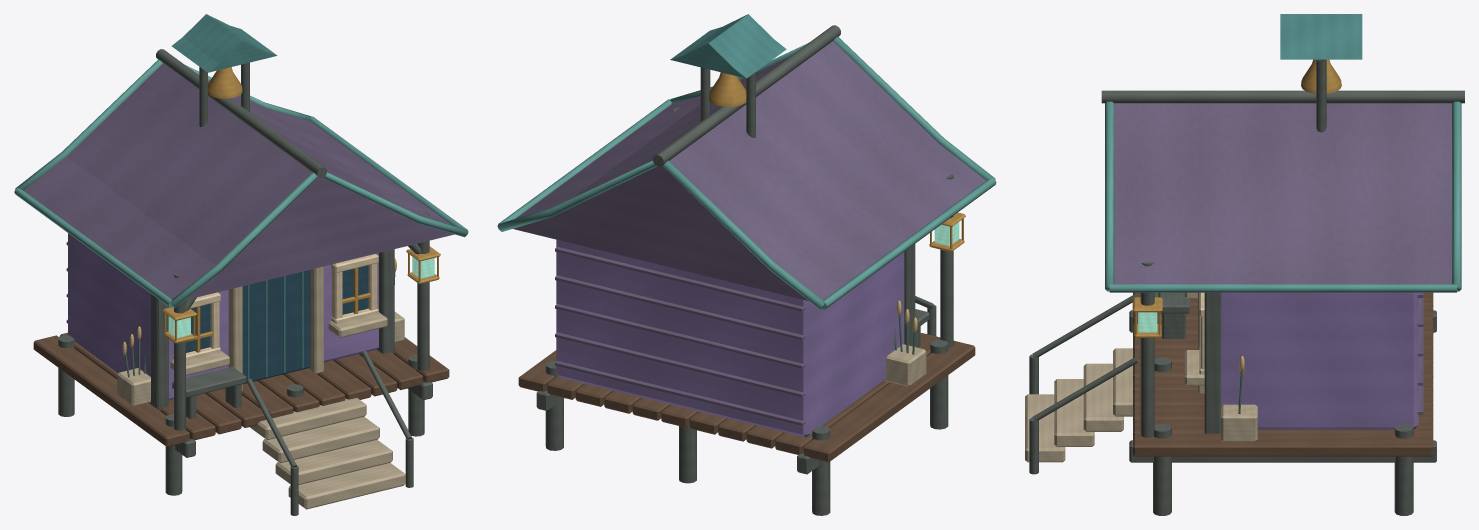
File: hollowmere-arrival-outpost.glb
3 renders of one model, left to right at view 1: azimuth 30°, elevation 25°; view 2: azimuth 150°, elevation 25°; view 3: azimuth 270°, elevation 25°, orthographic. The views are drawn at different scales.
Parts seen in each view (by area): view 1: Fen folded roof, Reed shelter, Arrival door, Dock board, Bell canopy, Roof rolled hem, Landing step.003, Landing step.001, Landing step.002, Roof spine, Landing step, Shelter corner post (+31 smaller); view 2: Fen folded roof, Reed shelter, Dock board, Bell canopy, Roof rolled hem.001, Roof spine, Roof rolled hem, Eave edge, Reed wall batten.004, Reed wall batten.002, Reed wall batten.003, Reed wall batten (+21 smaller); view 3: Fen folded roof, Reed shelter, Dock board.010, Roof spine, Bell canopy, Eave edge.001, Shelter corner post.001, Dock bearer.001, Landing step.001, Landing step.002, Roof rolled hem.001, Roof rolled hem (+21 smaller).
Boxes of the visible parts, bbox=[...] form: Fen folded roof: bbox=[23, 63, 454, 300]; Reed shelter: bbox=[68, 233, 378, 400]; Arrival door: bbox=[242, 269, 310, 383]; Dock board: bbox=[33, 335, 189, 446]; Bell canopy: bbox=[171, 14, 277, 72]; Roof rolled hem: bbox=[170, 172, 467, 307]; Landing step.003: bbox=[288, 463, 405, 509]; Landing step.001: bbox=[262, 416, 379, 463]; Landing step.002: bbox=[275, 440, 392, 484]; Roof spine: bbox=[156, 49, 326, 177]; Landing step: bbox=[250, 398, 366, 439]; Shelter corner post: bbox=[151, 294, 168, 411]; Fen folded roof: bbox=[513, 41, 986, 300]; Reed shelter: bbox=[556, 239, 904, 437]; Dock board: bbox=[803, 340, 975, 462]; Bell canopy: bbox=[670, 14, 786, 78]; Roof rolled hem.001: bbox=[498, 160, 824, 309]; Roof spine: bbox=[653, 25, 840, 166]; Roof rolled hem: bbox=[670, 36, 995, 180]; Eave edge: bbox=[822, 177, 996, 309]; Reed wall batten.004: bbox=[555, 246, 805, 311]; Reed wall batten.002: bbox=[555, 304, 805, 368]; Reed wall batten.003: bbox=[555, 275, 805, 340]; Reed wall batten: bbox=[555, 361, 805, 425]; Fen folded roof: bbox=[1114, 103, 1451, 284]; Reed shelter: bbox=[1221, 292, 1418, 429]; Dock board.010: bbox=[1133, 433, 1433, 456]; Roof spine: bbox=[1101, 90, 1464, 103]; Bell canopy: bbox=[1280, 14, 1362, 59]; Eave edge.001: bbox=[1109, 284, 1456, 292]; Shelter corner post.001: bbox=[1204, 292, 1221, 433]; Dock bearer.001: bbox=[1129, 440, 1436, 462]; Landing step.001: bbox=[1083, 363, 1123, 431]; Landing step.002: bbox=[1054, 379, 1094, 446]; Roof rolled hem.001: bbox=[1452, 101, 1461, 291]; Roof rolled hem: bbox=[1105, 101, 1114, 291].
Bounding box in the file's own units: 5.32 × 6.5 × 6.01.
2 materials, 2 textured.
